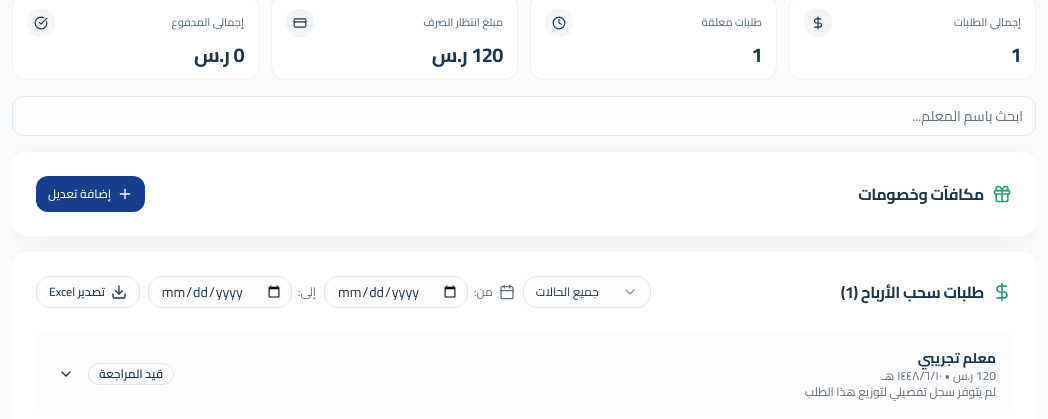
Test: combined VPS admin features › withdrawal search/KPIs leave financial records read-only until explicit action
Expected: the text "طلبات سحب الأرباح (1)" is shown, [841,280,1012,304]
Expected: the text "مبلغ انتظار الصرف" is shown, [423,16,503,30]
Type "غير موجود" into the field labelled "ابحث باسم المعلم".
click(524, 116); type("غير موجود")  # box [12,96,1036,136]
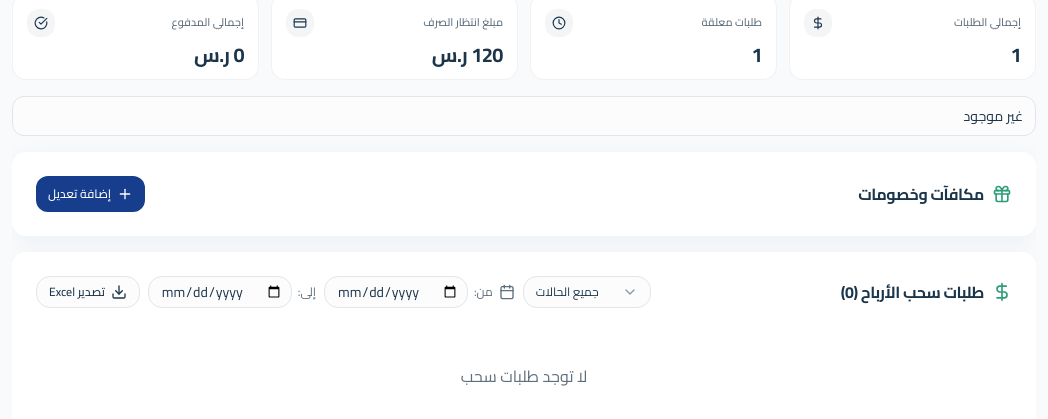
Expected: the text "طلبات سحب الأرباح (0)" is shown, [841,280,1012,304]
